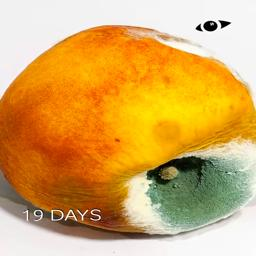Peach Rotten: (0, 24, 256, 236)
